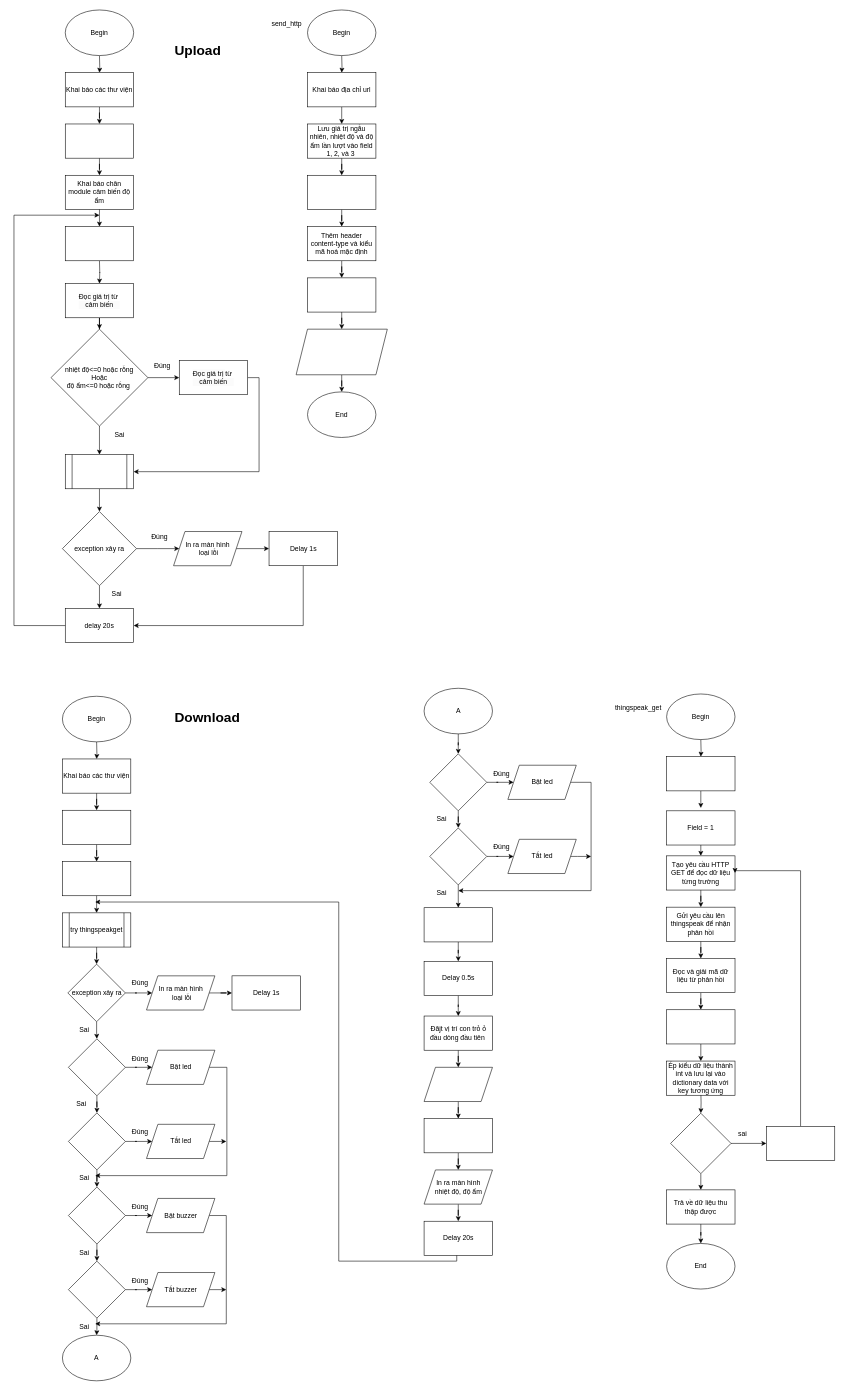
Some shapes in this 845 by 1391 pixel diagram are drawn without their labels. Each missing label, with the box of its shape:
Dữ liệu trường 1<50: (68, 1112, 125, 1170)
Dữ liệu trường 1>50: (68, 1038, 125, 1096)
Dữ liệu trường 2<50: (68, 1261, 125, 1318)
Dữ liệu trường 2>37: (68, 1186, 125, 1244)
Dữ liệu trường 3>60: (429, 827, 487, 885)
Dữ liệu trường 3>90: (429, 753, 487, 811)
field >4?: (670, 1113, 731, 1174)
Field++: (766, 1126, 835, 1161)
Gửi dữ liệu đã được đóng gói lên Thingspeak và lưu phản hồi: (296, 329, 387, 375)
In ra màn hình giá trị ngẫu nhiên: (424, 1067, 492, 1102)
Khai báo API key write: (65, 123, 134, 158)
Khai báo chân module buzzer, led, relay, LCD: (62, 861, 131, 896)
Khai báo id channel HTTP và API key read: (62, 810, 131, 844)
Lưu id channel và API key read: (666, 756, 735, 791)
Lưu lại dữ liệu trong file json: (666, 1009, 735, 1044)
Thêm header API key của Thingspeak: (307, 277, 376, 312)
try send_http: (65, 454, 134, 489)
Tạo giá trị ngẫu nhiên: (65, 226, 134, 261)
Tạo yêu cầu gửi dữ liệu lên Thingspeak thông qua HTTP: (307, 175, 376, 209)
Xoá màn hình LCD: (424, 907, 492, 942)
Đăjt vị trí con trỏ ỏ đầu dòng thứ 2: (424, 1118, 492, 1153)
